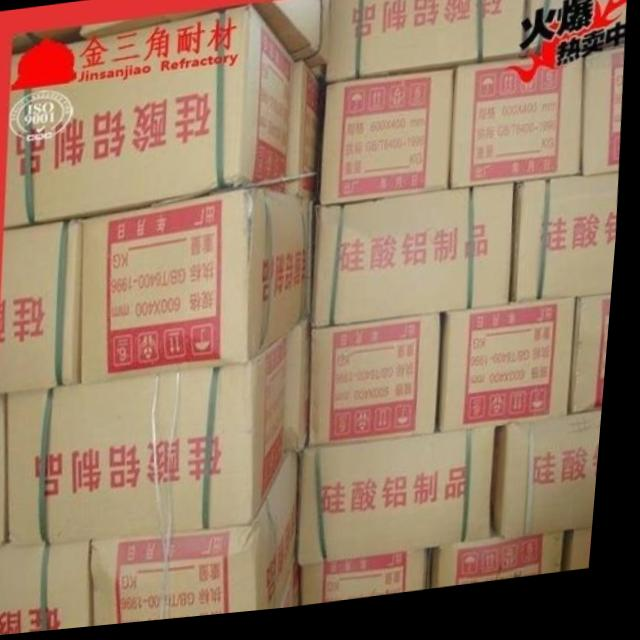box: (6, 10, 306, 229), (14, 340, 295, 544), (86, 193, 319, 382), (103, 456, 306, 629), (317, 193, 520, 330), (303, 432, 507, 568), (455, 59, 589, 195), (442, 311, 585, 436), (316, 322, 451, 452), (322, 80, 455, 210), (329, 0, 527, 82), (1, 223, 88, 392), (519, 179, 621, 311), (507, 422, 610, 551), (0, 538, 103, 637), (307, 553, 441, 606), (437, 544, 576, 595), (528, 0, 626, 62), (285, 69, 328, 201), (585, 50, 625, 182), (81, 9, 243, 39), (253, 2, 322, 69), (581, 308, 617, 423), (293, 323, 320, 459), (0, 392, 17, 546), (573, 538, 602, 581), (32, 23, 83, 46), (294, 568, 312, 610), (11, 28, 37, 54)
